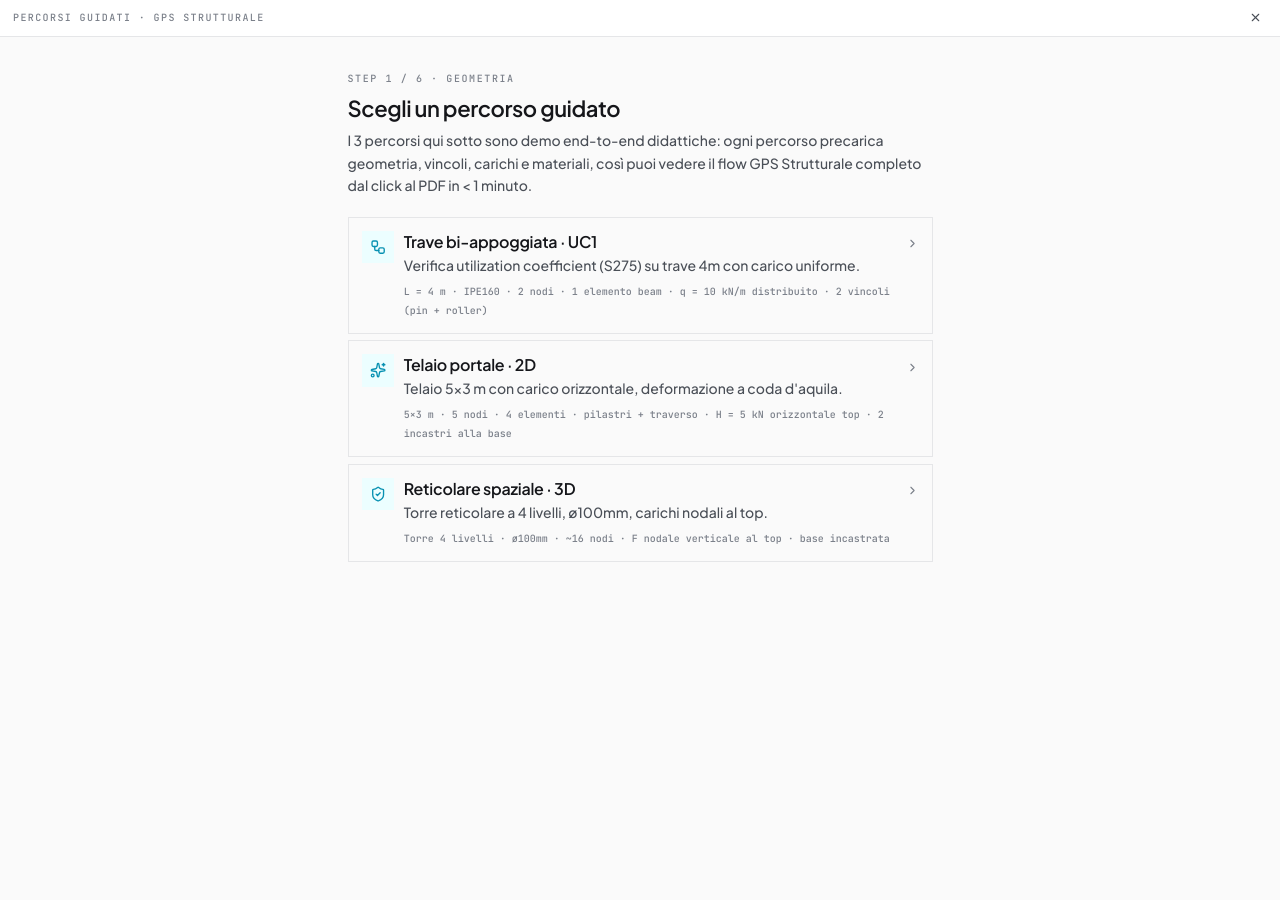
PercorsiBeamWizard (v2.6.3.1 full-page workspace) › click su card → avanza a step 2 con PercorsoStep template + riepilogo
The image size is (1280, 900).
Click the button with test id "percorsi-card-trave-bi-appoggiata-uc1": (640, 275) [348, 216, 932, 334]
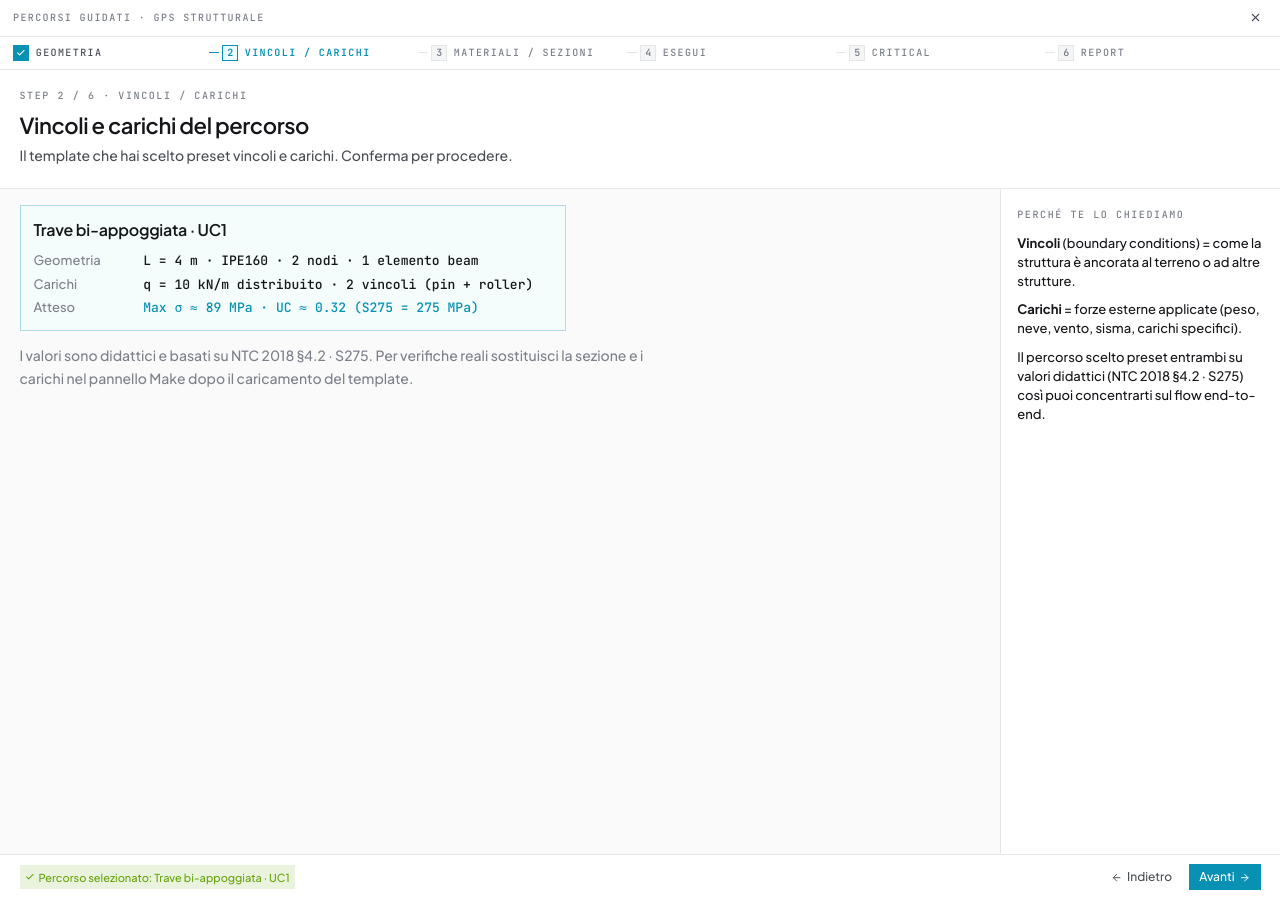
Expected: the element with test id "percorso-step" is shown
Expected: the element with test id "percorsi-step-2" is shown, [20, 205, 643, 387]
Expected: the heading "Vincoli e carichi del percorso" is shown, [20, 110, 309, 138]
